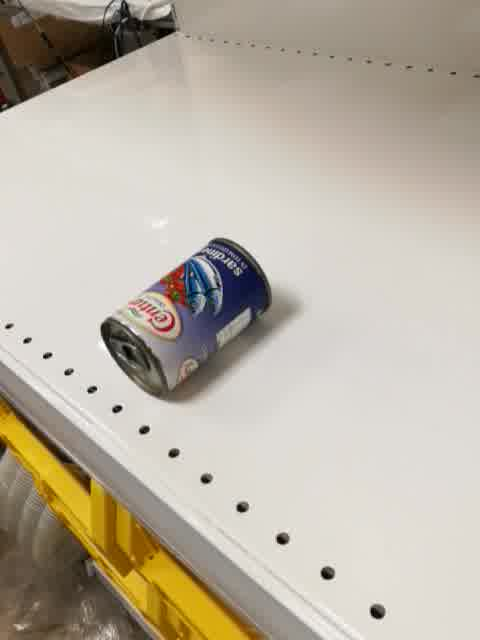sardine: (100, 236, 272, 398)
